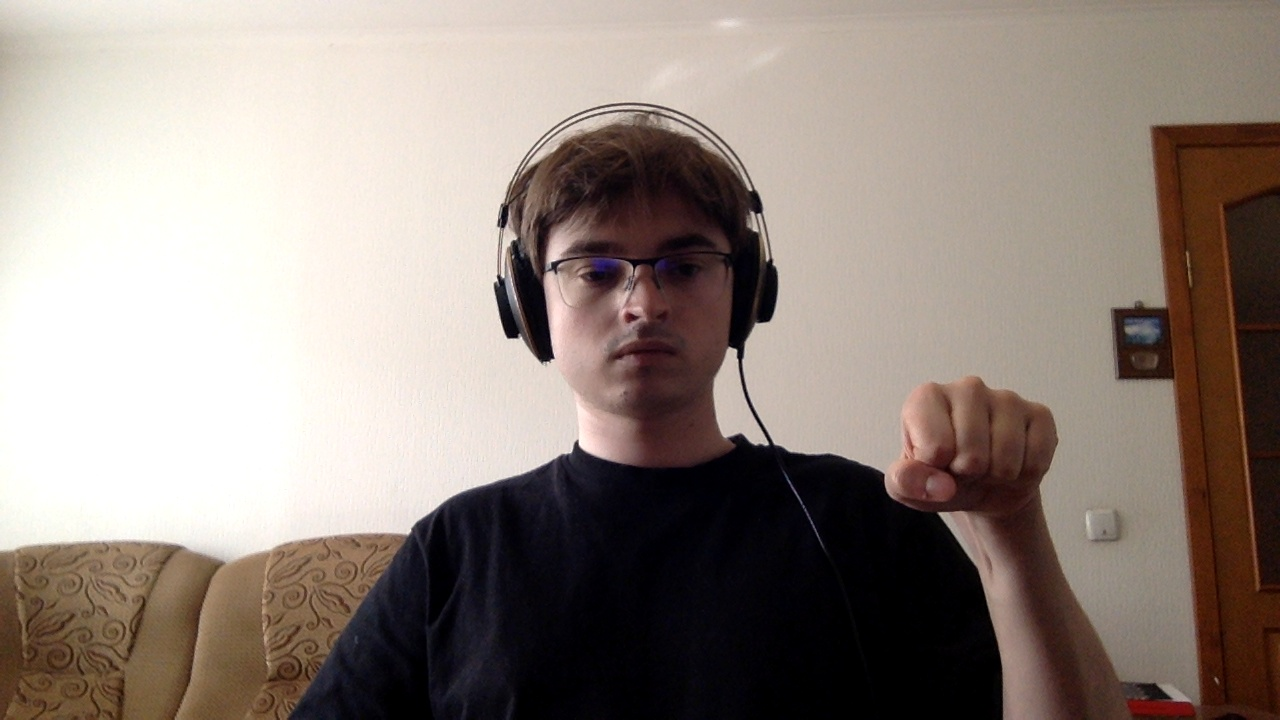yes: (824, 328, 1096, 556)
